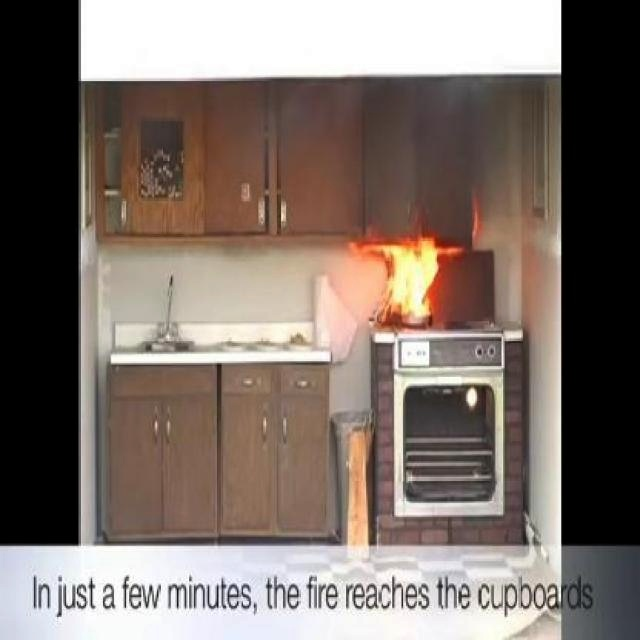fire: (357, 217, 490, 366)
